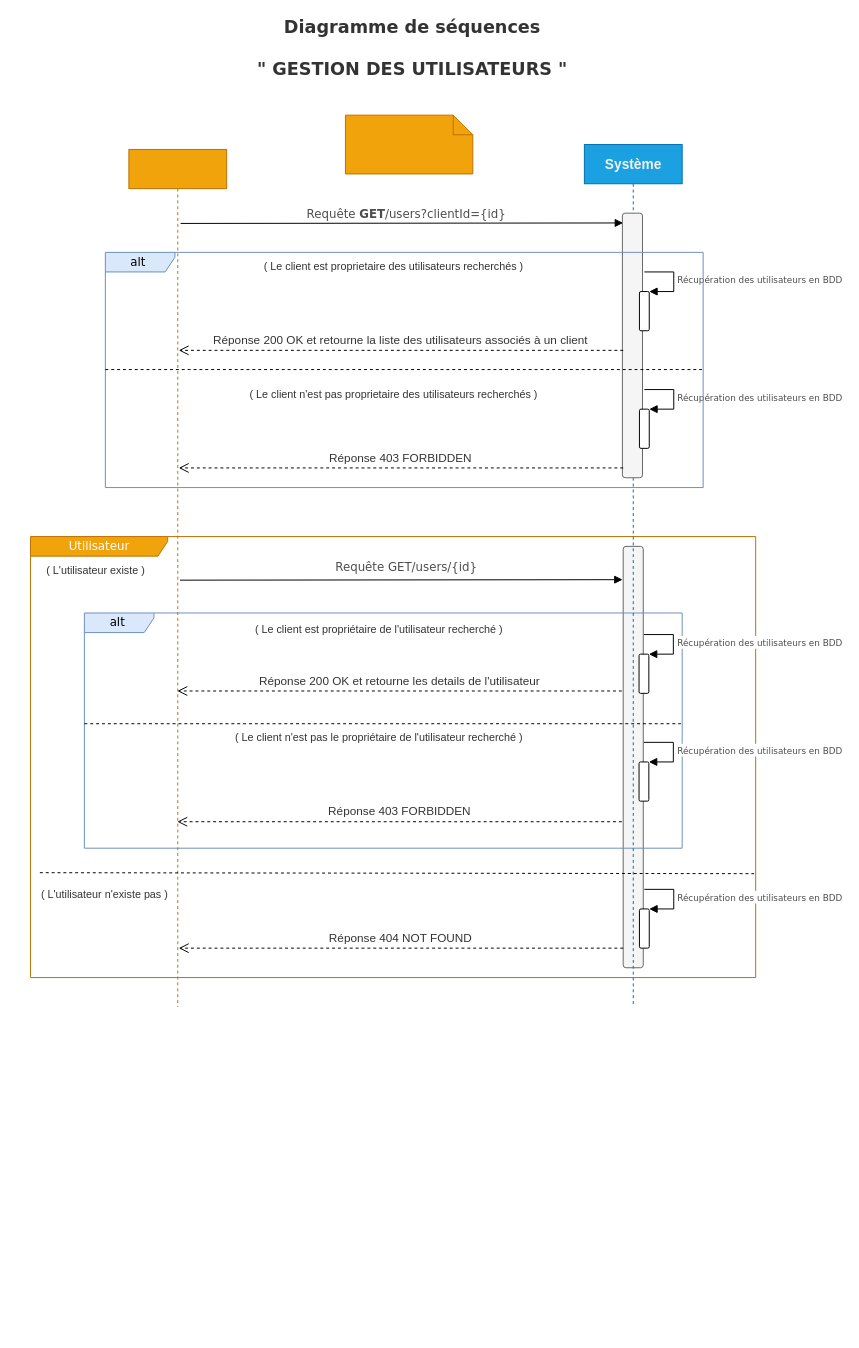
The diagram is 859 pixels wide and 1348 high, and some of its shapes have lost their labels. The shapes that lost their labels are listed below. From the top down, each one's centre as x and y in pixels, then its label:
At [408,144]: "Client enregistré + utilisation d'un Token à chaque requête".
At [177,577]: "Client enregistré".
